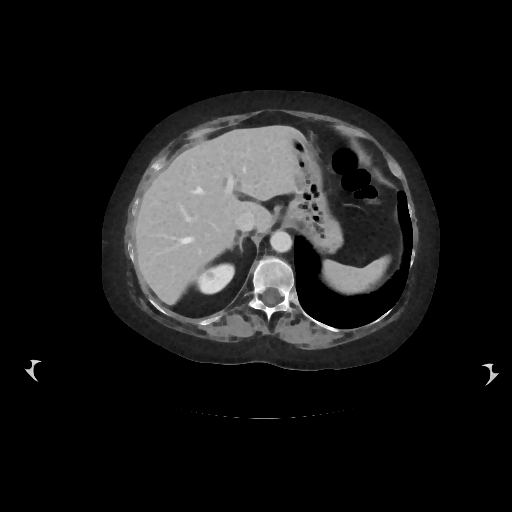Lesion: (204, 270, 218, 283)
